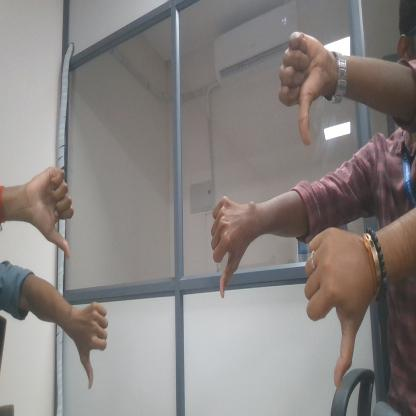Thumbs Down: (306, 229, 364, 383), (273, 21, 319, 152), (39, 162, 81, 266), (207, 192, 246, 300), (76, 303, 110, 400)
